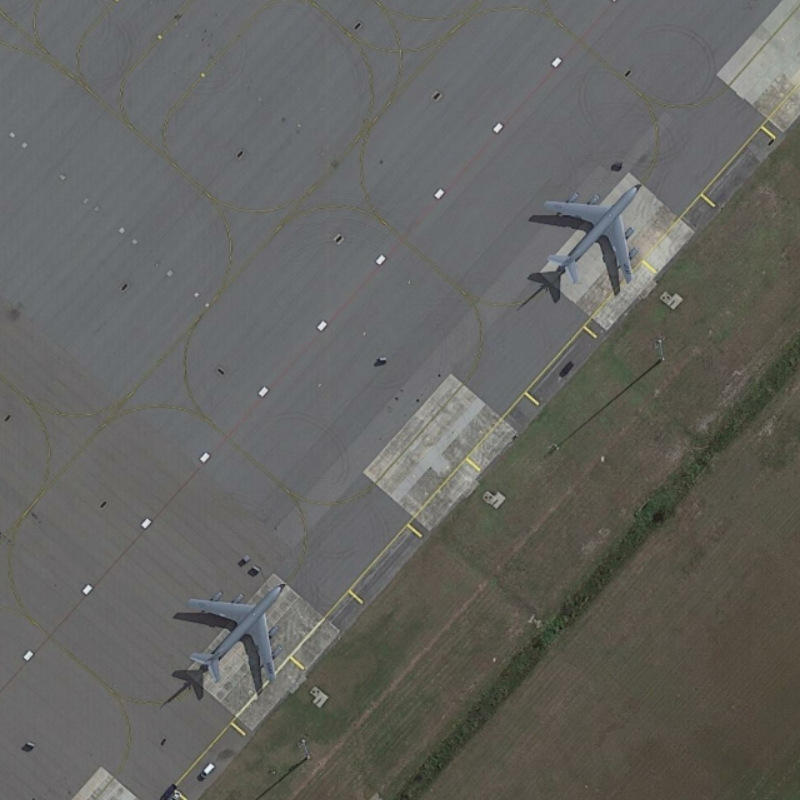A14: (531, 173, 649, 290), (171, 579, 289, 692)
